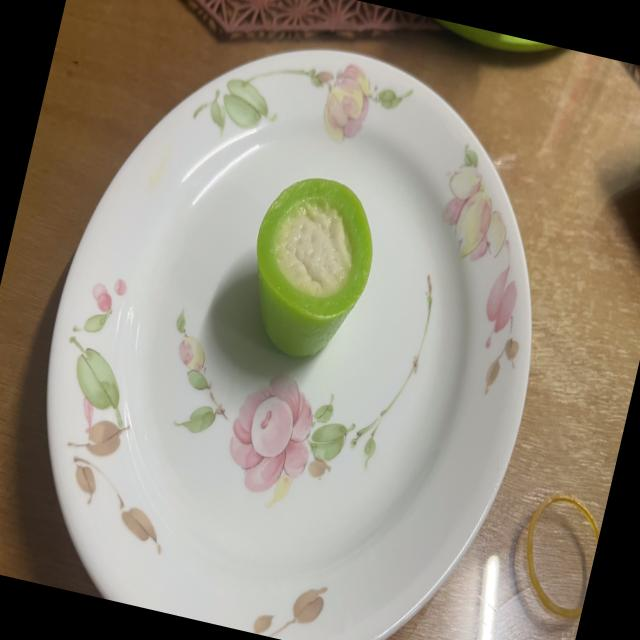nona-manis: (256, 177, 372, 356)
